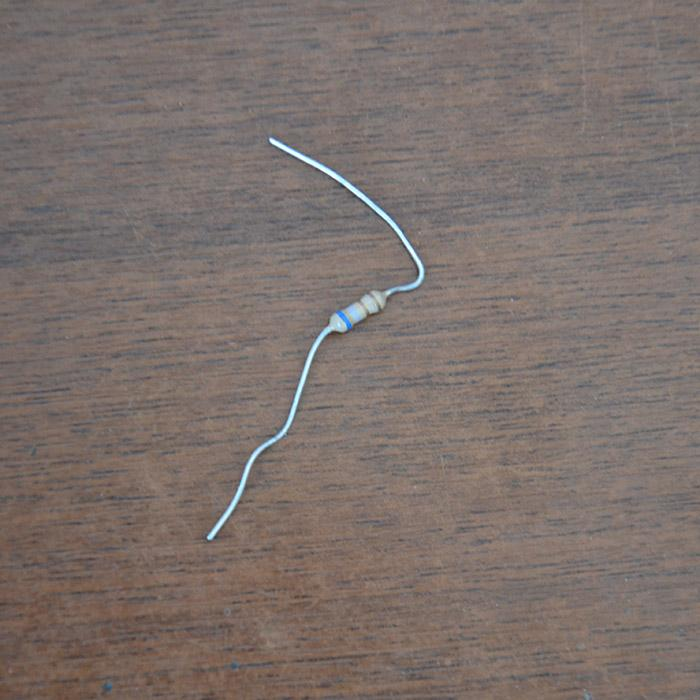resistor: (327, 289, 389, 335)
